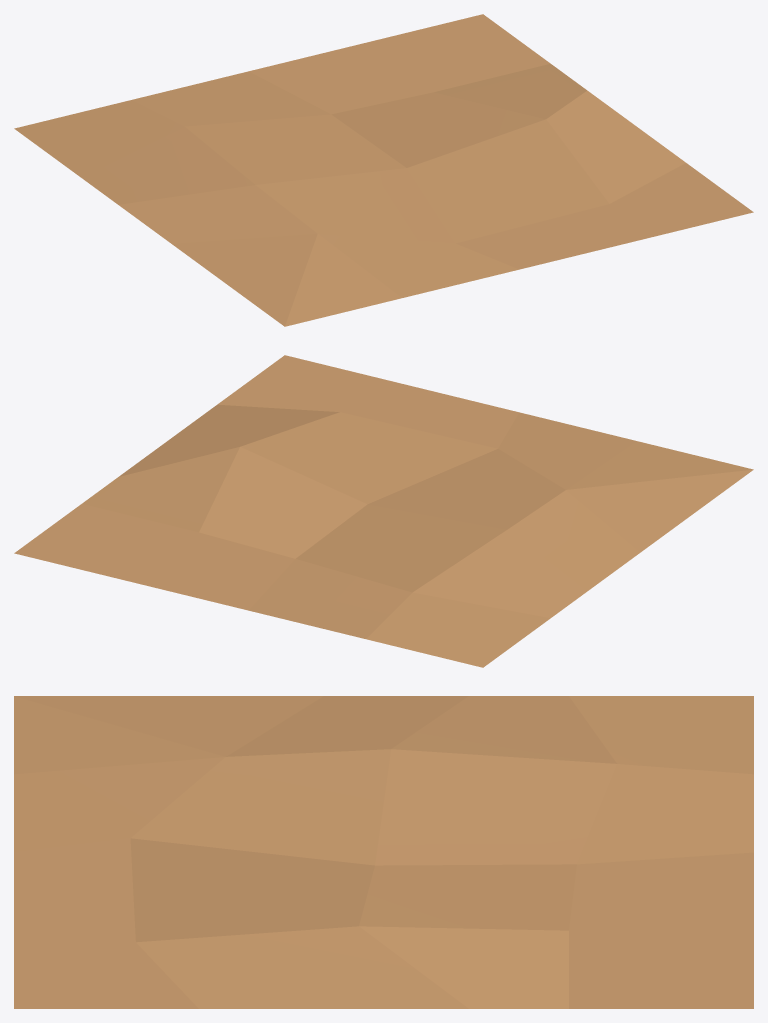
Rendered from Ground_Tile_A.fbx.
The picture shows the model from 3 angles, top to bottom: view 1: azimuth 30°, elevation 25°; view 2: azimuth 150°, elevation 25°; view 3: azimuth 270°, elevation 25°; orthographic projection. The views are drawn at different scales.
Visible parts, largest first — view 1: Ground_Tile_A; view 2: Ground_Tile_A; view 3: Ground_Tile_A.
Boxes of the visible parts, x1,y1,x2,y2 form: Ground_Tile_A: (14,14,753,326); Ground_Tile_A: (14,355,753,667); Ground_Tile_A: (14,696,753,1008).
Bounding box in the file's own units: 300 × 12.6 × 300.
